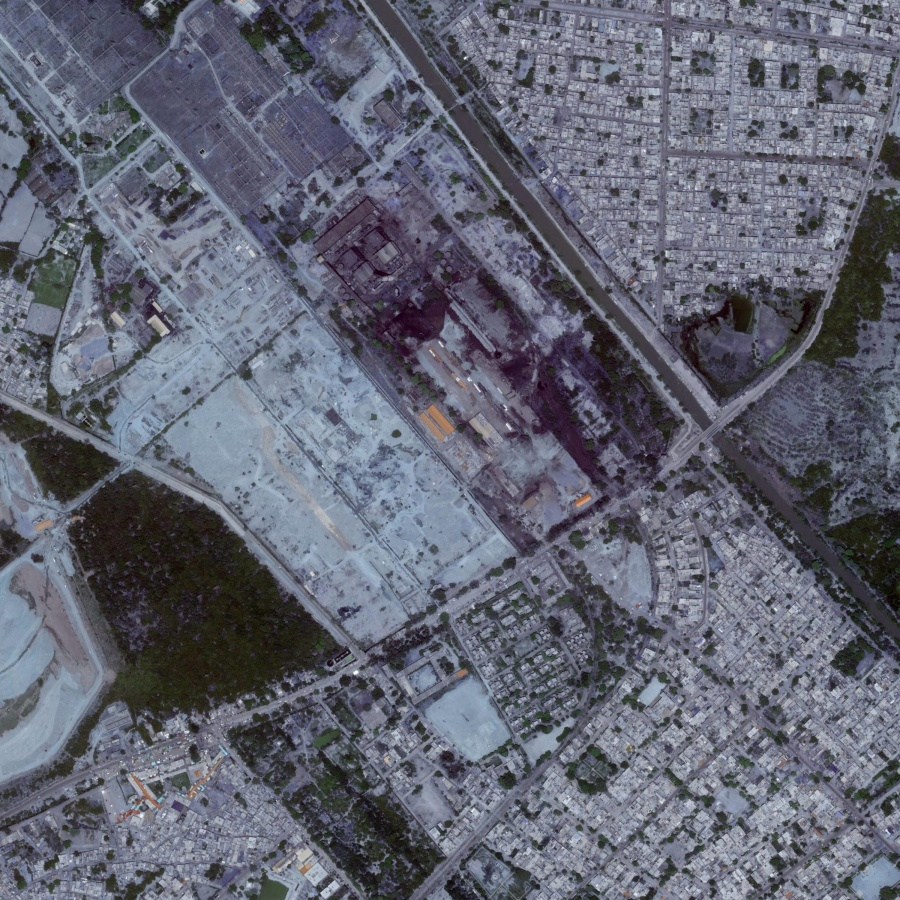PowerPlant: (314, 191, 613, 514)
